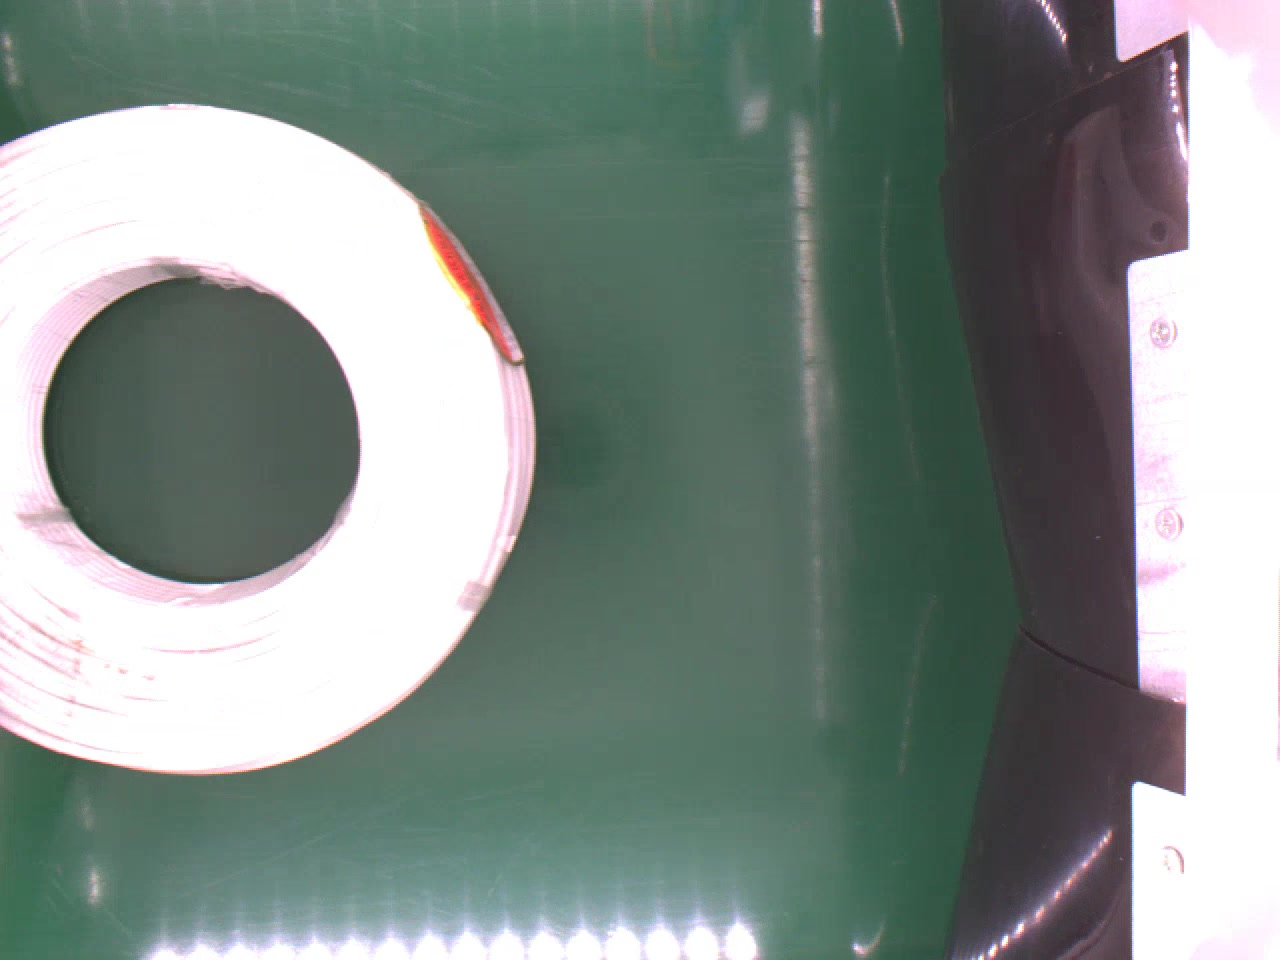white: (0, 93, 538, 776)
